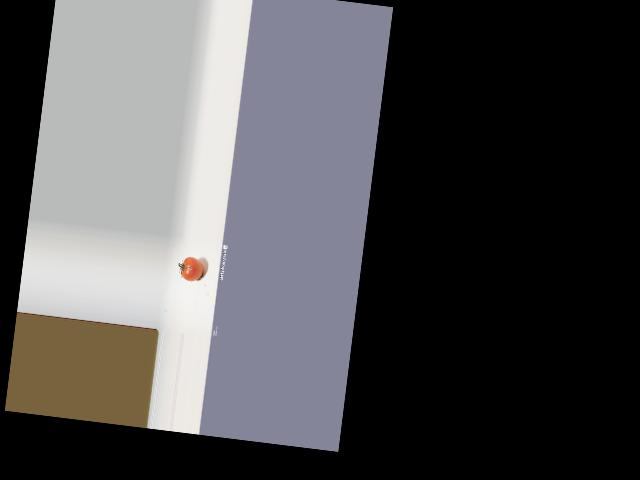tomato: (180, 256, 204, 283)
